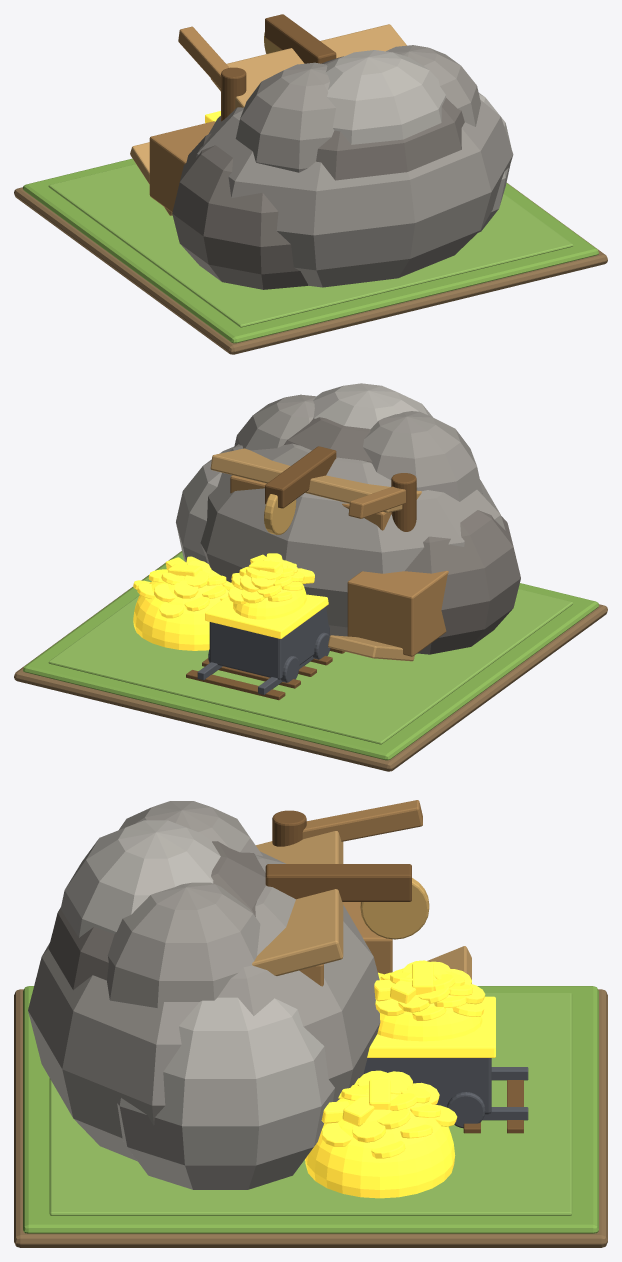
Rendered from gold_mine_lv3.glb.
3 renders of one model, top to bottom at view 1: azimuth 30°, elevation 25°; view 2: azimuth 150°, elevation 25°; view 3: azimuth 270°, elevation 25°, orthographic. The views are drawn at different scales.
Parts seen in each view (by area): view 1: MineRock_0, Base_Inner, Base_Grass, MineRock_1, MineRock_6, MineRock_4, Base_Dirt, MineRock_3, PortalRoof, OreHopperBin, MineRock_5, HoistBeam (+4 smaller); view 2: Base_Inner, MineRock_0, Base_Grass, MineRock_1, Base_Dirt, OreHopperBin, MineRock_4, MinecartBody, GoldMoundBase.001, MineRock_6, PortalRoof, MineRock_5 (+11 smaller); view 3: Base_Inner, MineRock_0, MineRock_2, Base_Grass, MineRock_5, Base_Dirt, MineRock_6, GoldMoundBase.001, PortalRoof, MineRock_3, HoistBeam, MinecartBody (+13 smaller).
Part boxes in pixels (left/top/right/bottom): MineRock_0: left=196, top=100, right=513, bottom=287; Base_Inner: left=48, top=164, right=573, bottom=327; Base_Grass: left=23, top=158, right=598, bottom=343; MineRock_1: left=172, top=133, right=308, bottom=289; MineRock_6: left=325, top=50, right=445, bottom=144; MineRock_4: left=235, top=62, right=335, bottom=172; Base_Dirt: left=14, top=183, right=607, bottom=354; MineRock_3: left=316, top=56, right=464, bottom=180; PortalRoof: left=210, top=24, right=406, bottom=108; OreHopperBin: left=149, top=121, right=215, bottom=212; MineRock_5: left=386, top=45, right=480, bottom=126; HoistBeam: left=265, top=14, right=336, bottom=63; Base_Inner: left=48, top=589, right=573, bottom=744; MineRock_0: left=200, top=443, right=505, bottom=636; Base_Grass: left=23, top=551, right=598, bottom=760; MineRock_1: left=405, top=510, right=520, bottom=654; Base_Dirt: left=14, top=551, right=607, bottom=771; OreHopperBin: left=347, top=570, right=448, bottom=656; MineRock_4: left=363, top=411, right=482, bottom=501; MinecartBody: left=209, top=606, right=329, bottom=679; GoldMoundBase.001: left=133, top=572, right=228, bottom=650; MineRock_6: left=313, top=383, right=432, bottom=429; PortalRoof: left=210, top=448, right=421, bottom=512; MineRock_5: left=234, top=394, right=316, bottom=450; Base_Inner: left=49, top=993, right=572, bottom=1215; MineRock_0: left=28, top=851, right=380, bottom=1161; MineRock_2: left=117, top=997, right=334, bottom=1189; Base_Grass: left=23, top=986, right=598, bottom=1233; MineRock_5: left=107, top=882, right=260, bottom=1007; Base_Dirt: left=14, top=989, right=607, bottom=1247; MineRock_6: left=60, top=820, right=220, bottom=937; GoldMoundBase.001: left=305, top=1085, right=455, bottom=1198; PortalRoof: left=252, top=831, right=343, bottom=975; MineRock_3: left=48, top=841, right=265, bottom=989; HoistBeam: left=265, top=864, right=411, bottom=901; MinecartBody: left=363, top=1058, right=491, bottom=1114.
Bounding box in the file's own units: 2.76 × 1.67 × 2.76.
